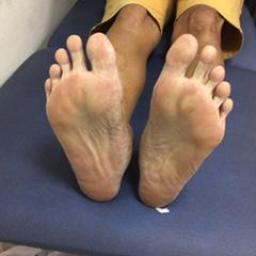Plantar View -Both Feet-: (36, 26, 237, 208)
